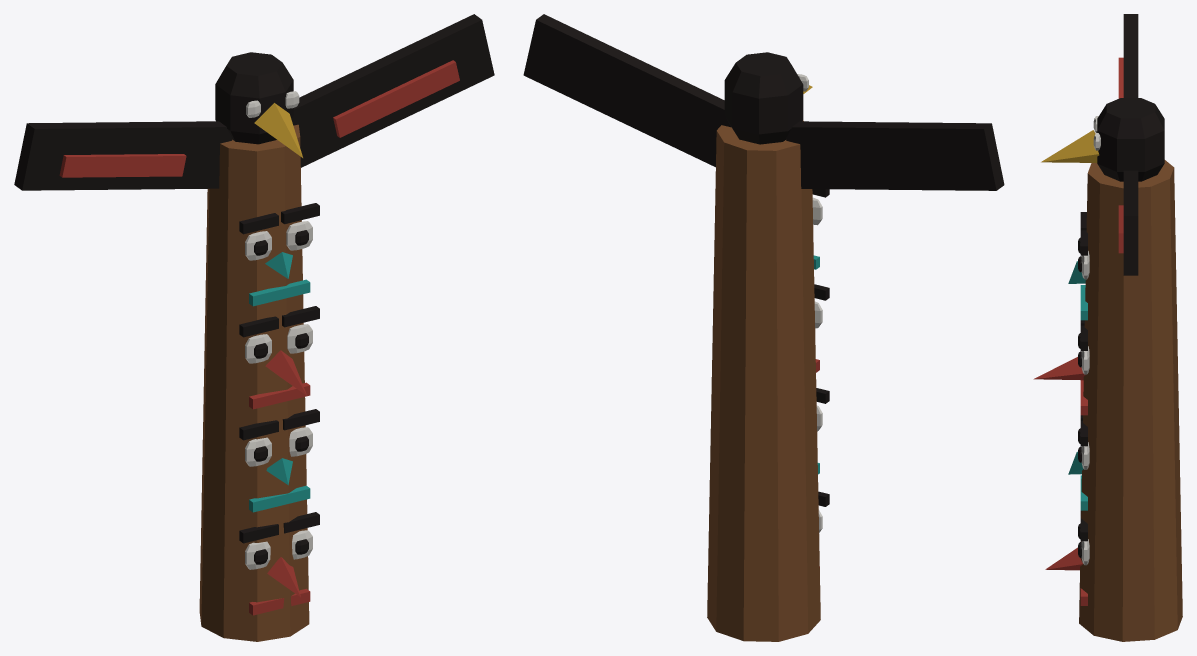
The model's file is bird_landmark.glb.
3 views of the same model, side by side, from view 1: azimuth 30°, elevation 25°; view 2: azimuth 150°, elevation 25°; view 3: azimuth 270°, elevation 25° (orthographic). The views are drawn at different scales.
Parts seen in each view (by area): view 1: bird_landmark; view 2: bird_landmark; view 3: bird_landmark.
Part boxes in pixels (bbox=[...]): bird_landmark: bbox=[14, 14, 494, 641]; bird_landmark: bbox=[523, 14, 1004, 641]; bird_landmark: bbox=[1033, 14, 1182, 641].
Size of the model in its own units: 3.46 by 3.87 by 1.03.
